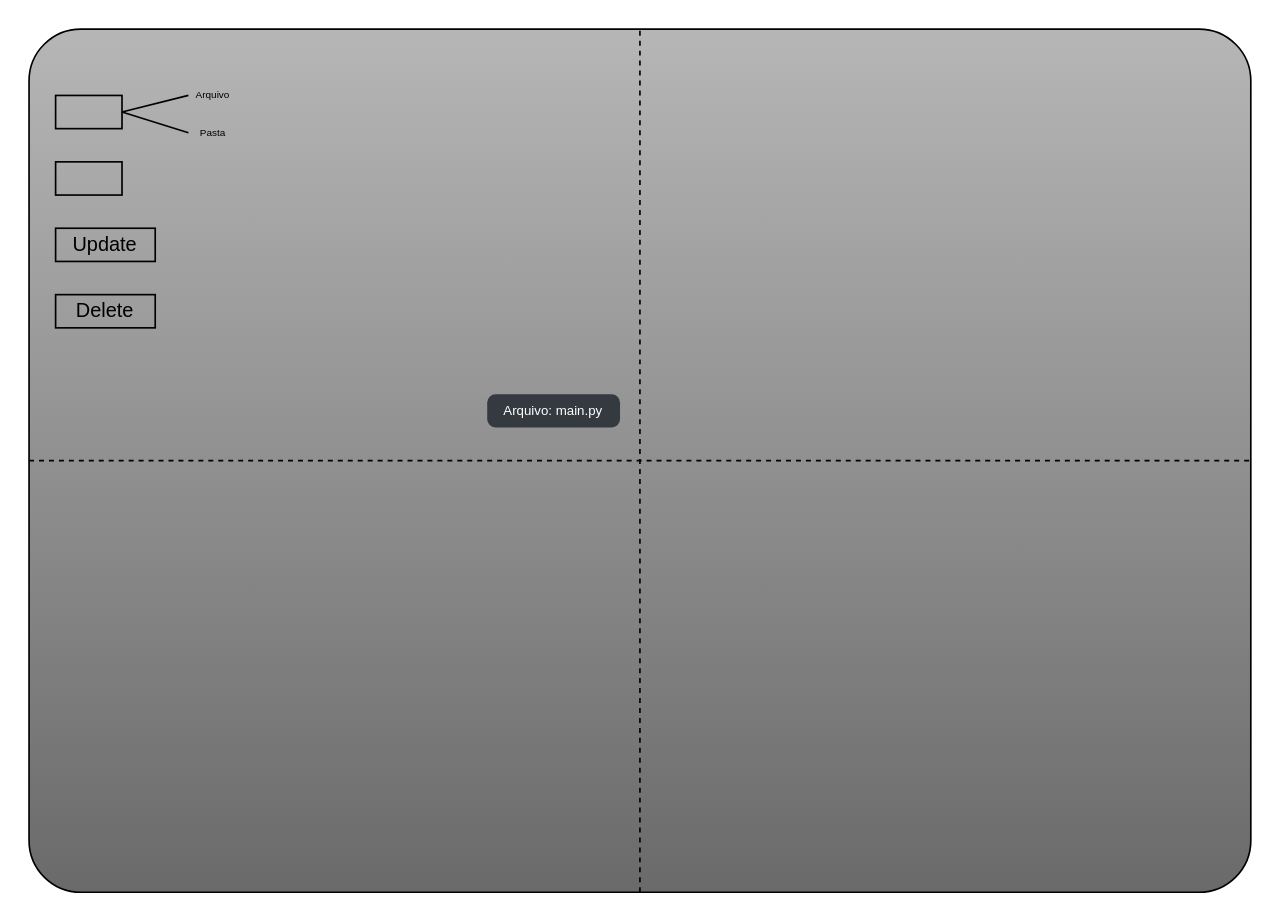
The diagram is 1282 pixels wide and 923 high, and some of its shapes have lost their labels. The box of each missing label's shape, as (x1, y1, x2, y2) in pixels:
Create: (54, 94, 122, 129)
Read: (54, 160, 122, 195)
